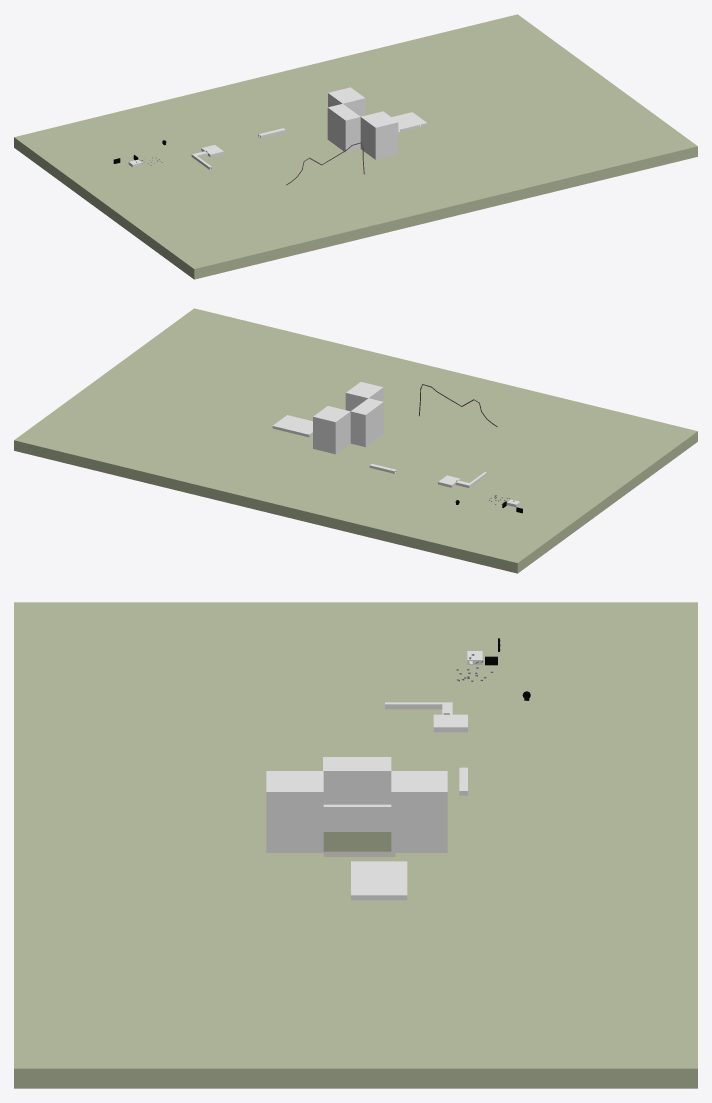
The model's file is ArkioLevel.fbx.
3 renders of one model, top to bottom at view 1: azimuth 30°, elevation 25°; view 2: azimuth 150°, elevation 25°; view 3: azimuth 270°, elevation 25°, orthographic. The views are drawn at different scales.
Parts seen in each view (by area): view 1: Arkio_AsA9/LOVMZ, Arkio_rkuQLtH2dJ, Arkio_NAOTymNcJh, Arkio_ChEcZrFM+j, Arkio_FFEbGPpZJR; view 2: Arkio_AsA9/LOVMZ, Arkio_ChEcZrFM+j, Arkio_NAOTymNcJh, Arkio_rkuQLtH2dJ, Arkio_FFEbGPpZJR; view 3: Arkio_AsA9/LOVMZ, Arkio_NAOTymNcJh, Arkio_rkuQLtH2dJ, Arkio_ChEcZrFM+j, Arkio_FFEbGPpZJR.
Part boxes in pixels (left/top/right/bottom): Arkio_AsA9/LOVMZ: left=14, top=14, right=697, bottom=279; Arkio_rkuQLtH2dJ: left=360, top=111, right=398, bottom=159; Arkio_NAOTymNcJh: left=327, top=103, right=360, bottom=152; Arkio_ChEcZrFM+j: left=328, top=87, right=365, bottom=116; Arkio_FFEbGPpZJR: left=391, top=112, right=427, bottom=132; Arkio_AsA9/LOVMZ: left=14, top=308, right=697, bottom=573; Arkio_ChEcZrFM+j: left=313, top=406, right=350, bottom=454; Arkio_NAOTymNcJh: left=350, top=398, right=383, bottom=446; Arkio_rkuQLtH2dJ: left=345, top=382, right=383, bottom=411; Arkio_FFEbGPpZJR: left=272, top=415, right=312, bottom=437; Arkio_AsA9/LOVMZ: left=14, top=602, right=697, bottom=1088; Arkio_NAOTymNcJh: left=323, top=757, right=391, bottom=831; Arkio_rkuQLtH2dJ: left=266, top=771, right=323, bottom=852; Arkio_ChEcZrFM+j: left=391, top=771, right=447, bottom=852; Arkio_FFEbGPpZJR: left=351, top=861, right=407, bottom=900.
Size of the model in its own units: 50000 by 6831 by 31000.
